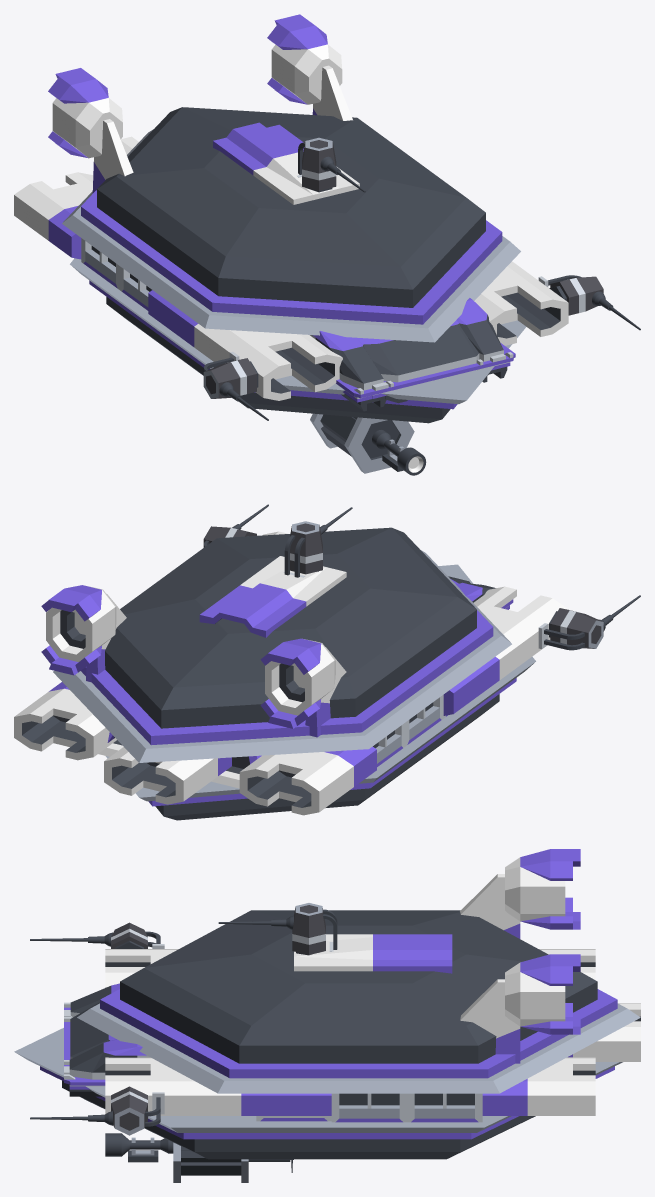
File: croiseur_moyen_3.glb
The picture shows the model from 3 angles, top to bottom: view 1: azimuth 30°, elevation 25°; view 2: azimuth 150°, elevation 25°; view 3: azimuth 270°, elevation 25°; orthographic projection.
Parts seen in each view (by area): view 1: mergedBlocks(Clone); view 2: mergedBlocks(Clone); view 3: mergedBlocks(Clone).
Part boxes in pixels (x1=…): mergedBlocks(Clone): x1=14, y1=14, x2=640, y2=475; mergedBlocks(Clone): x1=14, y1=504, x2=640, y2=820; mergedBlocks(Clone): x1=14, y1=849, x2=640, y2=1182.
Size of the model in its own units: 5.8 by 3.93 by 8.31.
Materials: 1 (1 with a texture image).
